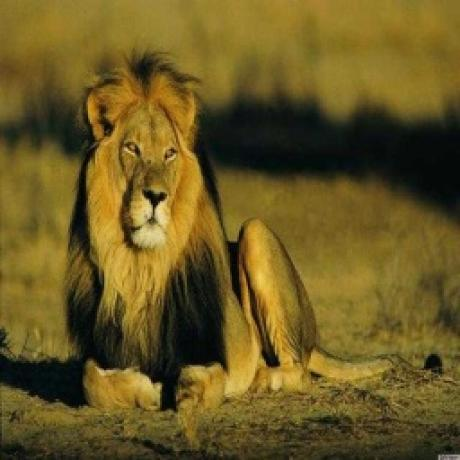Lion: (62, 50, 446, 411)
